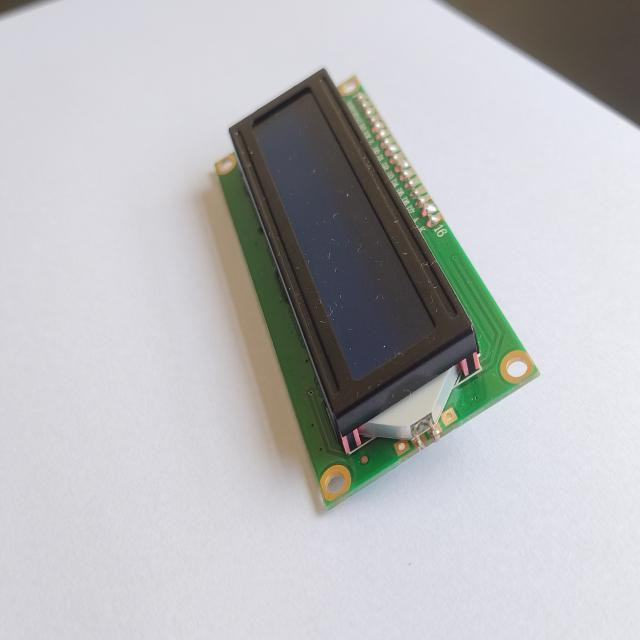lcd: (203, 56, 552, 523)
